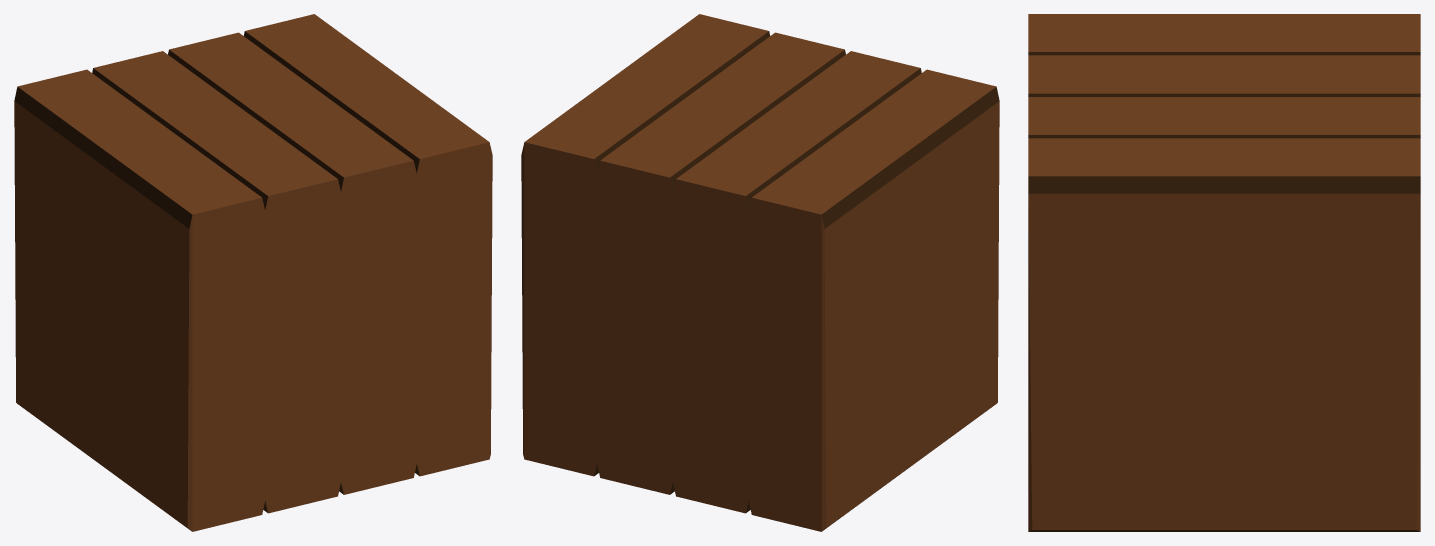
File: SueloMadera.fbx
3 renders of one model, left to right at view 1: azimuth 30°, elevation 25°; view 2: azimuth 150°, elevation 25°; view 3: azimuth 270°, elevation 25°, orthographic. The views are drawn at different scales.
Parts seen in each view (by area): view 1: TablasPiso; view 2: TablasPiso; view 3: TablasPiso.
Part boxes in pixels (<box>): TablasPiso: <box>14,14,492,531</box>; TablasPiso: <box>521,14,999,531</box>; TablasPiso: <box>1028,14,1420,531</box>.
Bounding box in the file's own units: 200 × 200 × 200.
